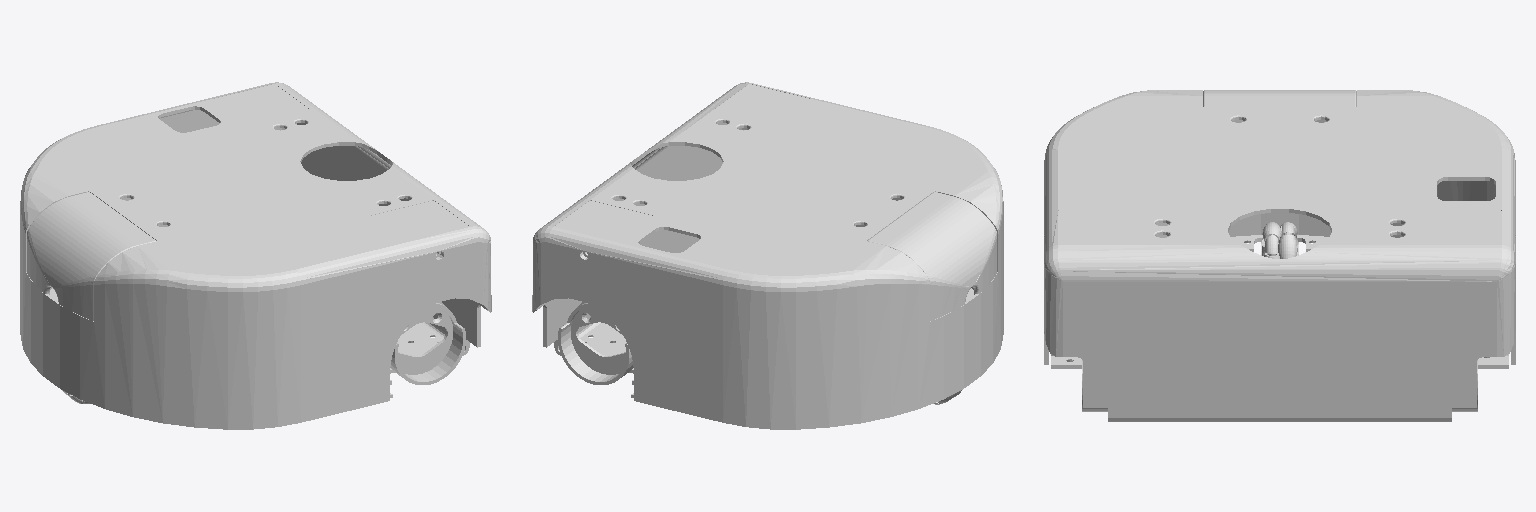
robot.urdf — GEN3_URDF_V12:
<robot name="GEN3_URDF_V12" version="1.0">
  <material name="carbon_fiber">
    <color rgba="0.9 0.9 0.9 1"/>
  </material>
  <link name="base_link">
    <inertial>
      <origin xyz="-0.000648 -0.000166 0.084487" rpy="0 0 0" />
      <mass value="1.697" />
      <inertia ixx="0.004622" ixy="9E-06" ixz="6E-05" iyy="0.004495" iyz="9E-06" izz="0.002079" />
    </inertial>
    <visual>
      <origin xyz="0 0 0" rpy="0 0 0" />
      <geometry>
        <mesh filename="meshes/base_link.STL" />
      </geometry>
      <material name="carbon_fiber"/>
    </visual>
    <collision>
      <origin xyz="0 0 0" rpy="0 0 0" />
      <geometry>
        <mesh filename="meshes/base_link.STL" />
      </geometry>
    </collision>
  </link>
  <link name="Shoulder_Link">
    <inertial>
      <origin xyz="-2.3E-05 -0.010364 -0.07336" rpy="0 0 0" />
      <mass value="1.3773" />
      <inertia ixx="0.00457" ixy="1E-06" ixz="2E-06" iyy="0.004831" iyz="0.000448" izz="0.001409" />
    </inertial>
    <visual>
      <origin xyz="0 0 0" rpy="0 0 0" />
      <geometry>
        <mesh filename="meshes/shoulder_link.STL" />
      </geometry>
      <material name="carbon_fiber"/>
    </visual>
    <collision>
      <origin xyz="0 0 0" rpy="0 0 0" />
      <geometry>
        <mesh filename="meshes/shoulder_link.STL" />
      </geometry>
    </collision>
  </link>
  <joint name="Actuator1" type="continuous">
    <origin xyz="0 0 0.15643" rpy="3.1416 2.7629E-18 -4.9305E-36" />
    <parent link="base_link" />
    <child link="Shoulder_Link" />
    <axis xyz="0 0 1" />
    <limit effort="39" velocity="0.8727" />
  </joint>
  <link name="HalfArm1_Link">
    <inertial>
      <origin xyz="-4.4E-05 -0.09958 -0.013278" rpy="0 0 0" />
      <mass value="1.1636" />
      <inertia ixx="0.011088" ixy="5E-06" ixz="0" iyy="0.001072" iyz="-0.000691" izz="0.011255" />
    </inertial>
    <visual>
      <origin xyz="0 0 0" rpy="0 0 0" />
      <geometry>
        <mesh filename="meshes/half_arm_1_link.STL" />
      </geometry>
      <material name="carbon_fiber"/>
    </visual>
    <collision>
      <origin xyz="0 0 0" rpy="0 0 0" />
      <geometry>
        <mesh filename="meshes/half_arm_1_link.STL" />
      </geometry>
    </collision>
  </link>
  <joint name="Actuator2" type="revolute">
    <origin xyz="0 0.005375 -0.12838" rpy="1.5708 2.1343E-17 -1.1102E-16" />
    <parent link="Shoulder_Link" />
    <child link="HalfArm1_Link" />
    <axis xyz="0 0 1" />
    <limit lower="-2.41" upper="2.41" effort="39" velocity="0.8727" />
  </joint>
  <link name="HalfArm2_Link">
    <inertial>
      <origin xyz="-4.4E-05 -0.006641 -0.117892" rpy="0 0 0" />
      <mass value="1.1636" />
      <inertia ixx="0.010932" ixy="0" ixz="-7E-06" iyy="0.011127" iyz="0.000606" izz="0.001043" />
    </inertial>
    <visual>
      <origin xyz="0 0 0" rpy="0 0 0" />
      <geometry>
        <mesh filename="meshes/half_arm_2_link.STL" />
      </geometry>
      <material name="carbon_fiber"/>
    </visual>
    <collision>
      <origin xyz="0 0 0" rpy="0 0 0" />
      <geometry>
        <mesh filename="meshes/half_arm_2_link.STL" />
      </geometry>
    </collision>
  </link>
  <joint name="Actuator3" type="continuous">
    <origin xyz="0 -0.21038 -0.006375" rpy="-1.5708 1.2326E-32 -2.9122E-16" />
    <parent link="HalfArm1_Link" />
    <child link="HalfArm2_Link" />
    <axis xyz="0 0 1" />
    <limit effort="39" velocity="0.8727" />
  </joint>
  <link name="ForeArm_Link">
    <inertial>
      <origin xyz="-1.8E-05 -0.075478 -0.015006" rpy="0 0 0" />
      <mass value="0.9302" />
      <inertia ixx="0.008147" ixy="-1E-06" ixz="0" iyy="0.000631" iyz="-0.0005" izz="0.008316" />
    </inertial>
    <visual>
      <origin xyz="0 0 0" rpy="0 0 0" />
      <geometry>
        <mesh filename="meshes/forearm_link.STL" />
      </geometry>
      <material name="carbon_fiber"/>
    </visual>
    <collision>
      <origin xyz="0 0 0" rpy="0 0 0" />
      <geometry>
        <mesh filename="meshes/forearm_link.STL" />
      </geometry>
    </collision>
  </link>
  <joint name="Actuator4" type="revolute">
    <origin xyz="0 0.006375 -0.21038" rpy="1.5708 -6.6954E-17 -1.6653E-16" />
    <parent link="HalfArm2_Link" />
    <child link="ForeArm_Link" />
    <axis xyz="0 0 1" />
    <limit lower="-2.66" upper="2.66" effort="39" velocity="0.8727" />
  </joint>
  <link name="SphericalWrist1_Link">
    <inertial>
      <origin xyz="1E-06 -0.009432 -0.063883" rpy="0 0 0" />
      <mass value="0.6781" />
      <inertia ixx="0.001596" ixy="0" ixz="0" iyy="0.001607" iyz="0.000256" izz="0.000399" />
    </inertial>
    <visual>
      <origin xyz="0 0 0" rpy="0 0 0" />
      <geometry>
        <mesh filename="meshes/spherical_wrist_1_link.STL" />
      </geometry>
      <material name="carbon_fiber"/>
    </visual>
    <collision>
      <origin xyz="0 0 0" rpy="0 0 0" />
      <geometry>
        <mesh filename="meshes/spherical_wrist_1_link.STL" />
      </geometry>
    </collision>
  </link>
  <joint name="Actuator5" type="continuous">
    <origin xyz="0 -0.20843 -0.006375" rpy="-1.5708 2.2204E-16 -6.373E-17" />
    <parent link="ForeArm_Link" />
    <child link="SphericalWrist1_Link" />
    <axis xyz="0 0 1" />
    <limit effort="9" velocity="0.8727" />
  </joint>
  <link name="SphericalWrist2_Link">
    <inertial>
      <origin xyz="1E-06 -0.045483 -0.00965" rpy="0 0 0" />
      <mass value="0.6781" />
      <inertia ixx="0.001641" ixy="0" ixz="0" iyy="0.00041" iyz="-0.000278" izz="0.001641" />
    </inertial>
    <visual>
      <origin xyz="0 0 0" rpy="0 0 0" />
      <geometry>
        <mesh filename="meshes/spherical_wrist_2_link.STL" />
      </geometry>
      <material name="carbon_fiber"/>
    </visual>
    <collision>
      <origin xyz="0 0 0" rpy="0 0 0" />
      <geometry>
        <mesh filename="meshes/spherical_wrist_2_link.STL" />
      </geometry>
    </collision>
  </link>
  <joint name="Actuator6" type="revolute">
    <origin xyz="0 0.00017505 -0.10593" rpy="1.5708 9.2076E-28 -8.2157E-15" />
    <parent link="SphericalWrist1_Link" />
    <child link="SphericalWrist2_Link" />
    <axis xyz="0 0 1" />
    <limit lower="-2.23" upper="2.23" effort="9" velocity="0.8727" />
  </joint>
  <link name="Bracelet_Link">
    <inertial>
      <origin xyz="-0.000281 -0.011402 -0.029798" rpy="0 0 0" />
      <mass value="0.5006" />
      <inertia ixx="0.000587" ixy="3E-06" ixz="3E-06" iyy="0.000369" iyz="0.000118" izz="0.000609" />
    </inertial>
    <visual>
      <origin xyz="0 0 0" rpy="0 0 0" />
      <geometry>
        <mesh filename="meshes/bracelet_link.STL" />
      </geometry>
      <material name="carbon_fiber"/>
    </visual>
    <collision>
      <origin xyz="0 0 0" rpy="0 0 0" />
      <geometry>
        <mesh filename="meshes/bracelet_link.STL" />
      </geometry>
    </collision>
  </link>
  <joint name="Actuator7" type="continuous">
    <origin xyz="0 -0.10593 -0.00017505" rpy="-1.5708 -5.5511E-17 9.6396E-17" />
    <parent link="SphericalWrist2_Link" />
    <child link="Bracelet_Link" />
    <axis xyz="0 0 1" />
    <limit effort="9" velocity="0.8727" />
  </joint>
  <link name="EndEffector_Link" />
  <joint name="EndEffector" type="fixed">
    <origin xyz="0 0 -0.0615250000000001" rpy="3.14159265358979 1.09937075168372E-32 0" />
    <parent link="Bracelet_Link" />
    <child link="EndEffector_Link" />
    <axis xyz="0 0 0" />
  </joint>
</robot>

--- Facts derived from the render (not from the file) ---
3 views of the same robot in one strip: view 1: azimuth 30°, elevation 25°; view 2: azimuth 150°, elevation 25°; view 3: azimuth 270°, elevation 25° (orthographic).
Robot: GEN3_URDF_V12 — 9 links, 8 joints (3 revolute, 4 continuous, 1 fixed); root link base_link; default pose: every joint at zero.
Links seen in each view (by area): view 1: base_link; view 2: base_link; view 3: base_link.
Link boxes in pixels (x1,y1,x2,y2): base_link: (20, 82, 491, 429); base_link: (532, 82, 1003, 429); base_link: (1044, 90, 1515, 421).
Size in the robot's own frame: 0.3245 by 0.341 by 0.1597 metres.
Meshes: 8 distinct files referenced, 1 mesh visuals loaded (1 binary STL); not drawn: 7 (reference not matched to a file when rendering).